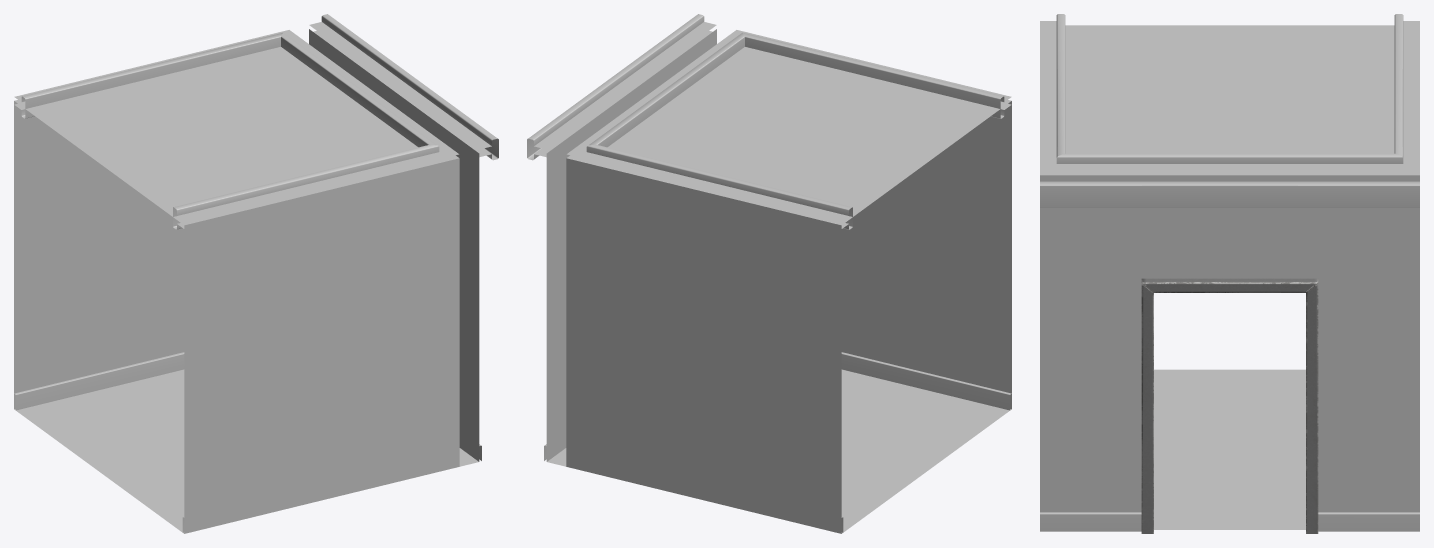
File: SM_WallA_Doorway01.fbx
3 renders of one model, left to right at view 1: azimuth 30°, elevation 25°; view 2: azimuth 150°, elevation 25°; view 3: azimuth 270°, elevation 25°, orthographic. The views are drawn at different scales.
Visible parts, largest first — view 1: SM_WallA_Doorway01; view 2: SM_WallA_Doorway01; view 3: SM_WallA_Doorway01.
Part boxes in pixels (<box>): SM_WallA_Doorway01: <box>14,14,498,533</box>; SM_WallA_Doorway01: <box>527,14,1011,533</box>; SM_WallA_Doorway01: <box>1040,14,1419,533</box>.
Bounding box in the file's own units: 320 × 310 × 300.
